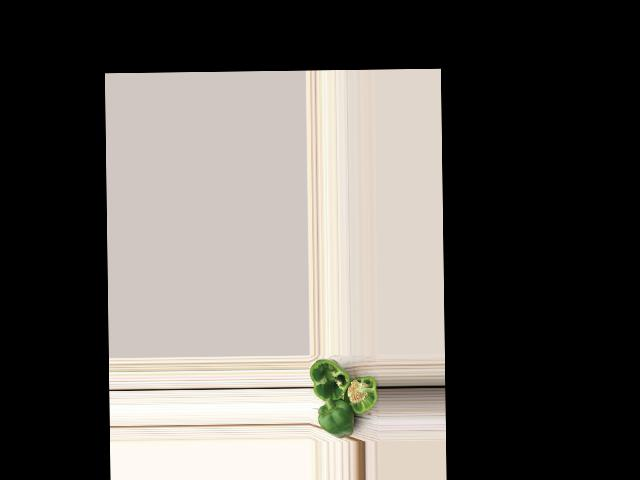bell_pepper: (344, 368, 377, 417)
